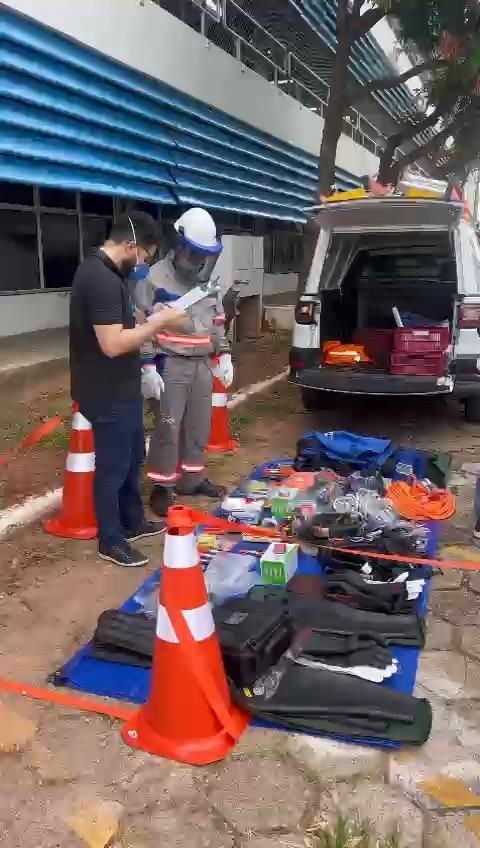Cone: (143, 496, 248, 773), (57, 402, 109, 542), (211, 336, 235, 464)
Face_Shield: (167, 224, 225, 277)
Gloves: (141, 360, 171, 402), (217, 344, 241, 392)
Head: (99, 204, 165, 274)
Helmet: (169, 206, 224, 280)
No gloves: (151, 300, 187, 334)
